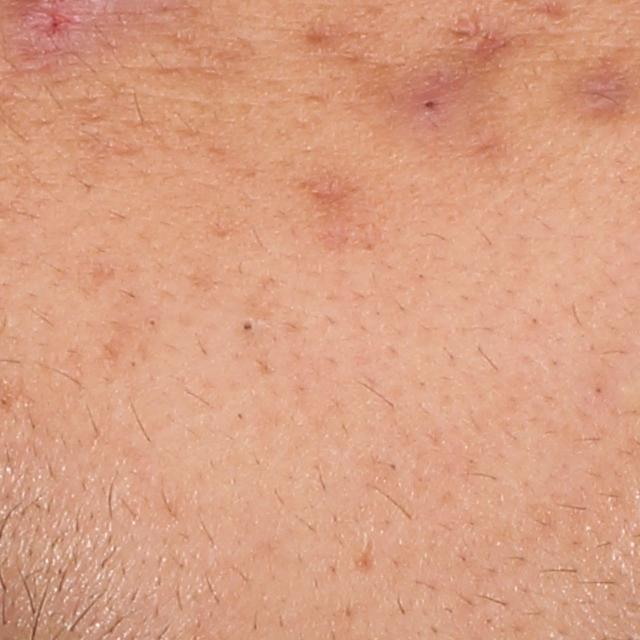atrophic_scar: (284, 171, 396, 255), (572, 64, 633, 120), (445, 15, 505, 63), (353, 536, 375, 576)
comedo: (239, 317, 258, 336)
